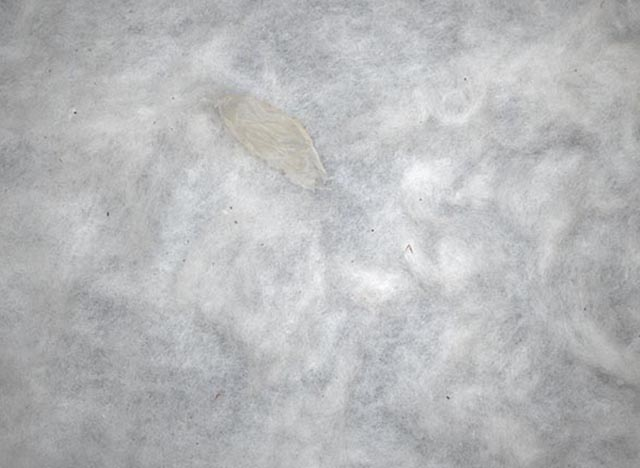plastic film: (213, 93, 333, 192)
